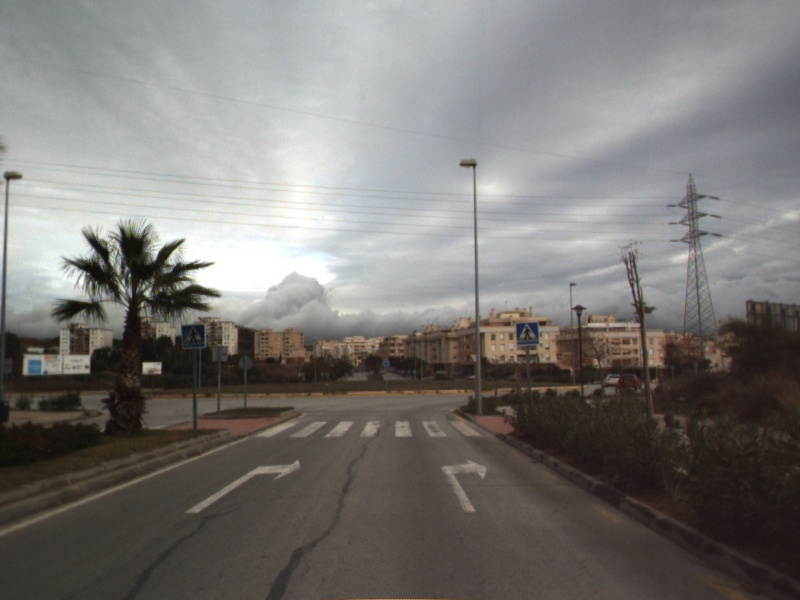RIGHT: (182, 457, 303, 515), (439, 456, 489, 514)
